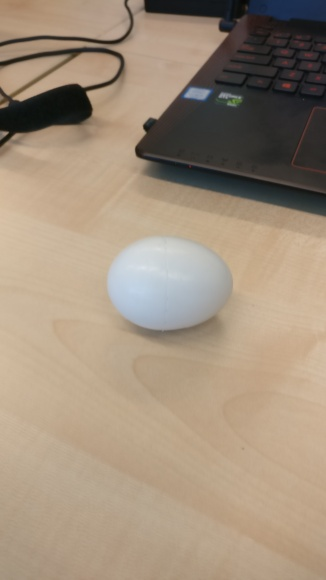egg: (107, 233, 233, 331)
